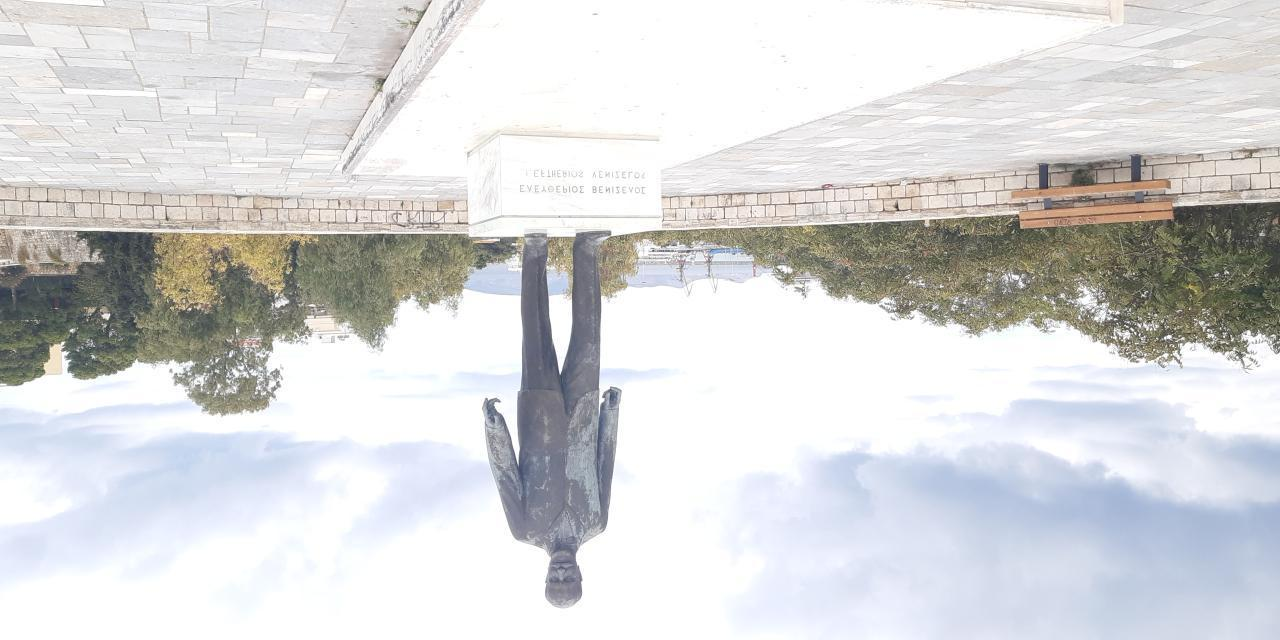Venizelos: (482, 231, 621, 607)
